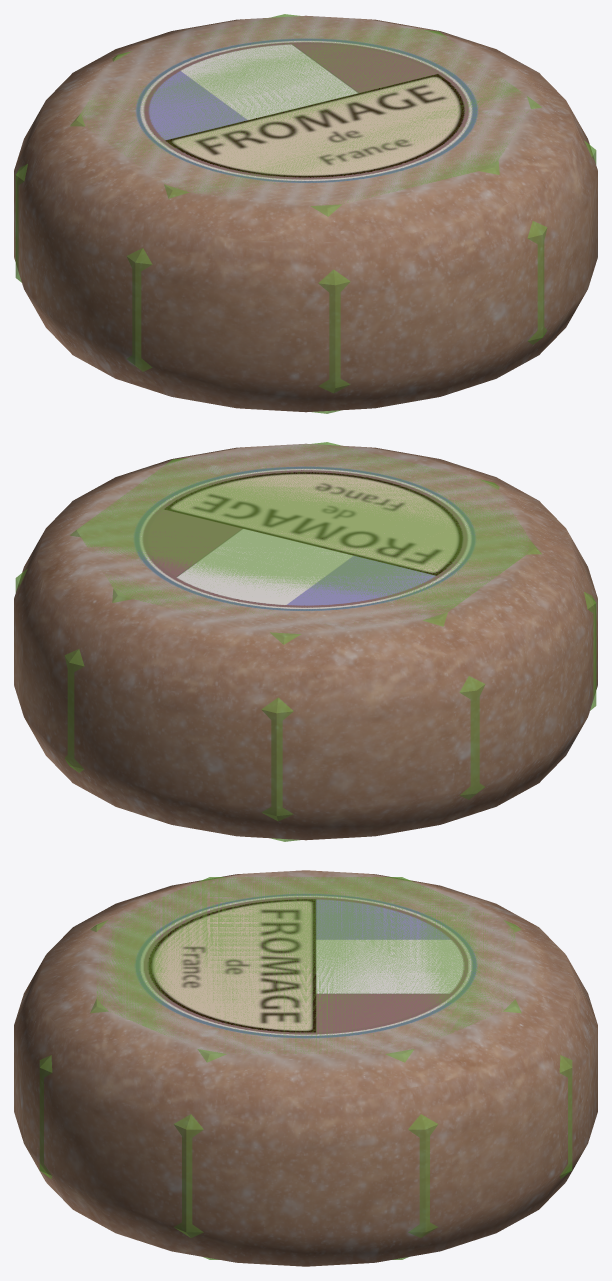
Rendered from pg_Cheese_04.fbx.
3 renders of one model, top to bottom at view 1: azimuth 30°, elevation 25°; view 2: azimuth 150°, elevation 25°; view 3: azimuth 270°, elevation 25°, orthographic.
Parts seen in each view (by area): view 1: pg_Cheese_04_a_LOD0, pg_Cheese_04_a_col; view 2: pg_Cheese_04_a_LOD0, pg_Cheese_04_a_col; view 3: pg_Cheese_04_a_LOD0, pg_Cheese_04_a_col.
Part boxes in pixels (box(x1,y1,x2,y2)): pg_Cheese_04_a_LOD0: box(14, 15, 597, 412); pg_Cheese_04_a_col: box(15, 14, 596, 413); pg_Cheese_04_a_LOD0: box(14, 443, 597, 840); pg_Cheese_04_a_col: box(15, 442, 596, 841); pg_Cheese_04_a_LOD0: box(14, 870, 597, 1266); pg_Cheese_04_a_col: box(39, 877, 572, 1259).
Size of what is drawn, in the model's own units: 37.97 by 14.77 by 37.97.
Materials: 2 (1 with a texture image).
